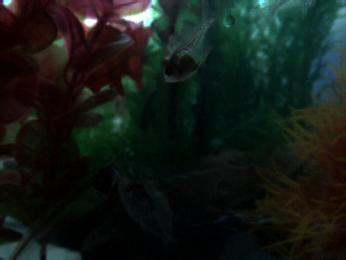X-ray fish: (111, 176, 174, 248), (161, 6, 218, 85), (249, 1, 312, 29)
